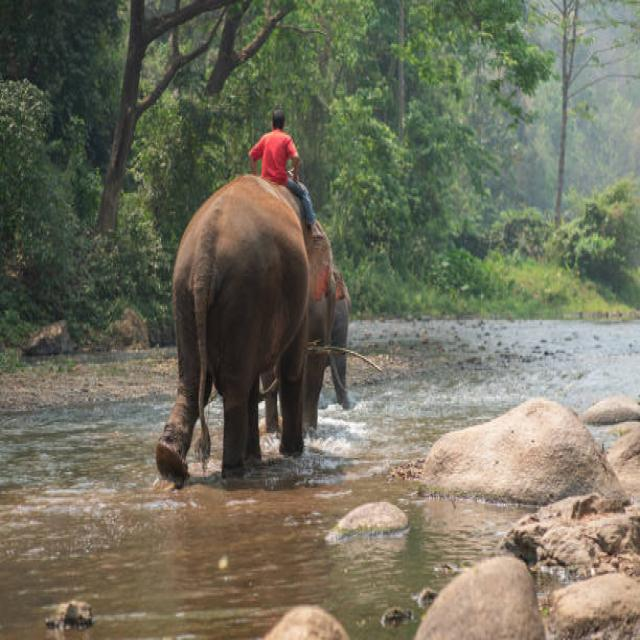Elephant: (147, 168, 327, 470)
